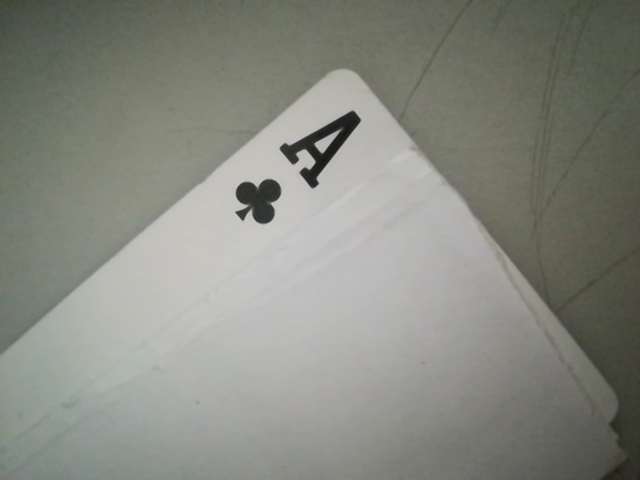mh a: (214, 102, 381, 232)
